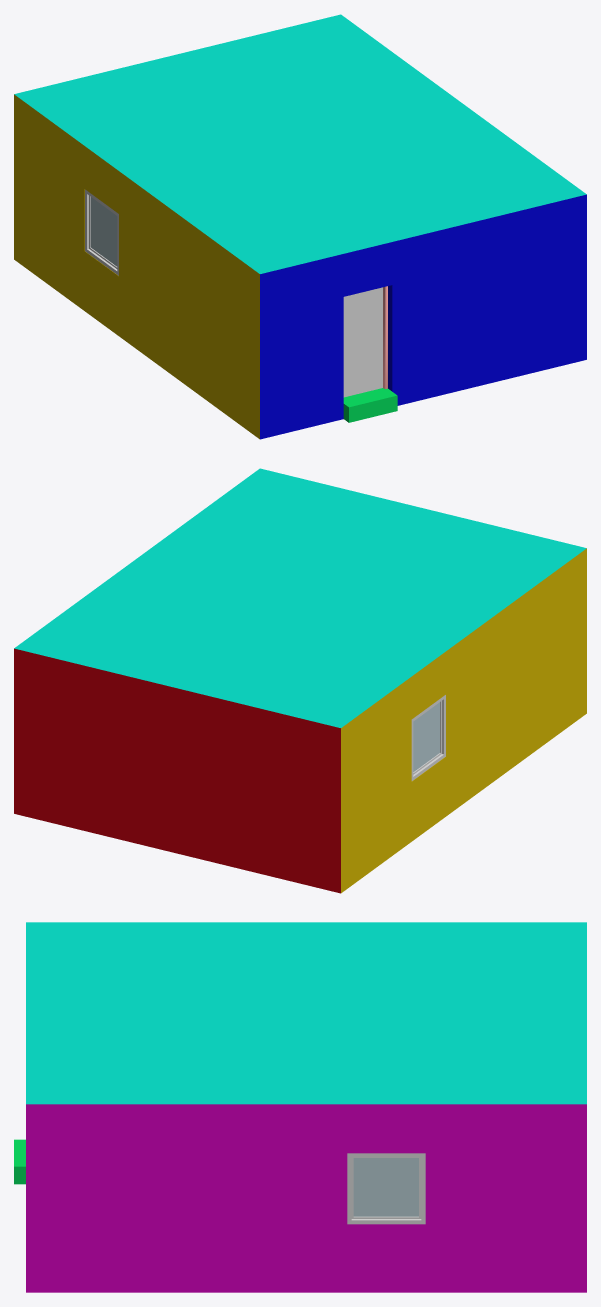
The model's file is OwnRoom.fbx_Scene_Master_Collection.fbx.
3 renders of one model, top to bottom at view 1: azimuth 30°, elevation 25°; view 2: azimuth 150°, elevation 25°; view 3: azimuth 270°, elevation 25°, orthographic. The views are drawn at different scales.
Parts seen in each view (by area): view 1: Cube, Plane, Würfel.001; view 2: Cube, Würfel.001; view 3: Cube, Würfel.
Part boxes in pixels (box(x1,y1,x2,y2)): Cube: box(14, 14, 586, 439); Plane: box(343, 287, 382, 397); Würfel.001: box(85, 189, 118, 275); Cube: box(14, 468, 586, 893); Würfel.001: box(411, 695, 445, 780); Cube: box(14, 922, 586, 1292); Würfel: box(347, 1153, 425, 1224).
Size of the model in its own units: 660 by 319 by 878.
